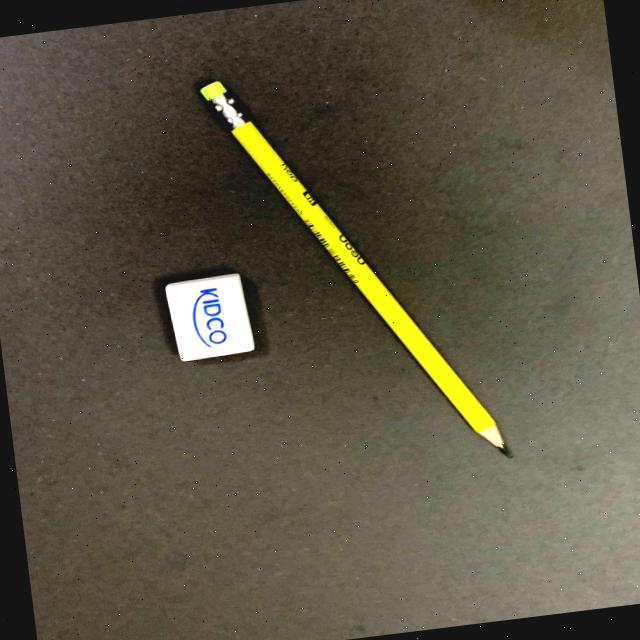Eraser: (132, 254, 280, 388)
Pencil: (147, 50, 564, 485)
